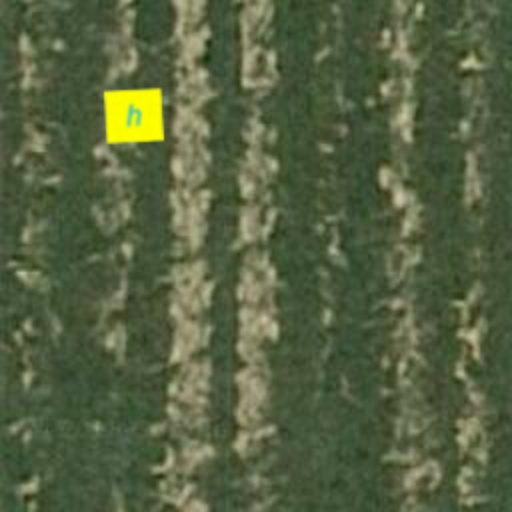rectangle: (104, 86, 164, 146)
